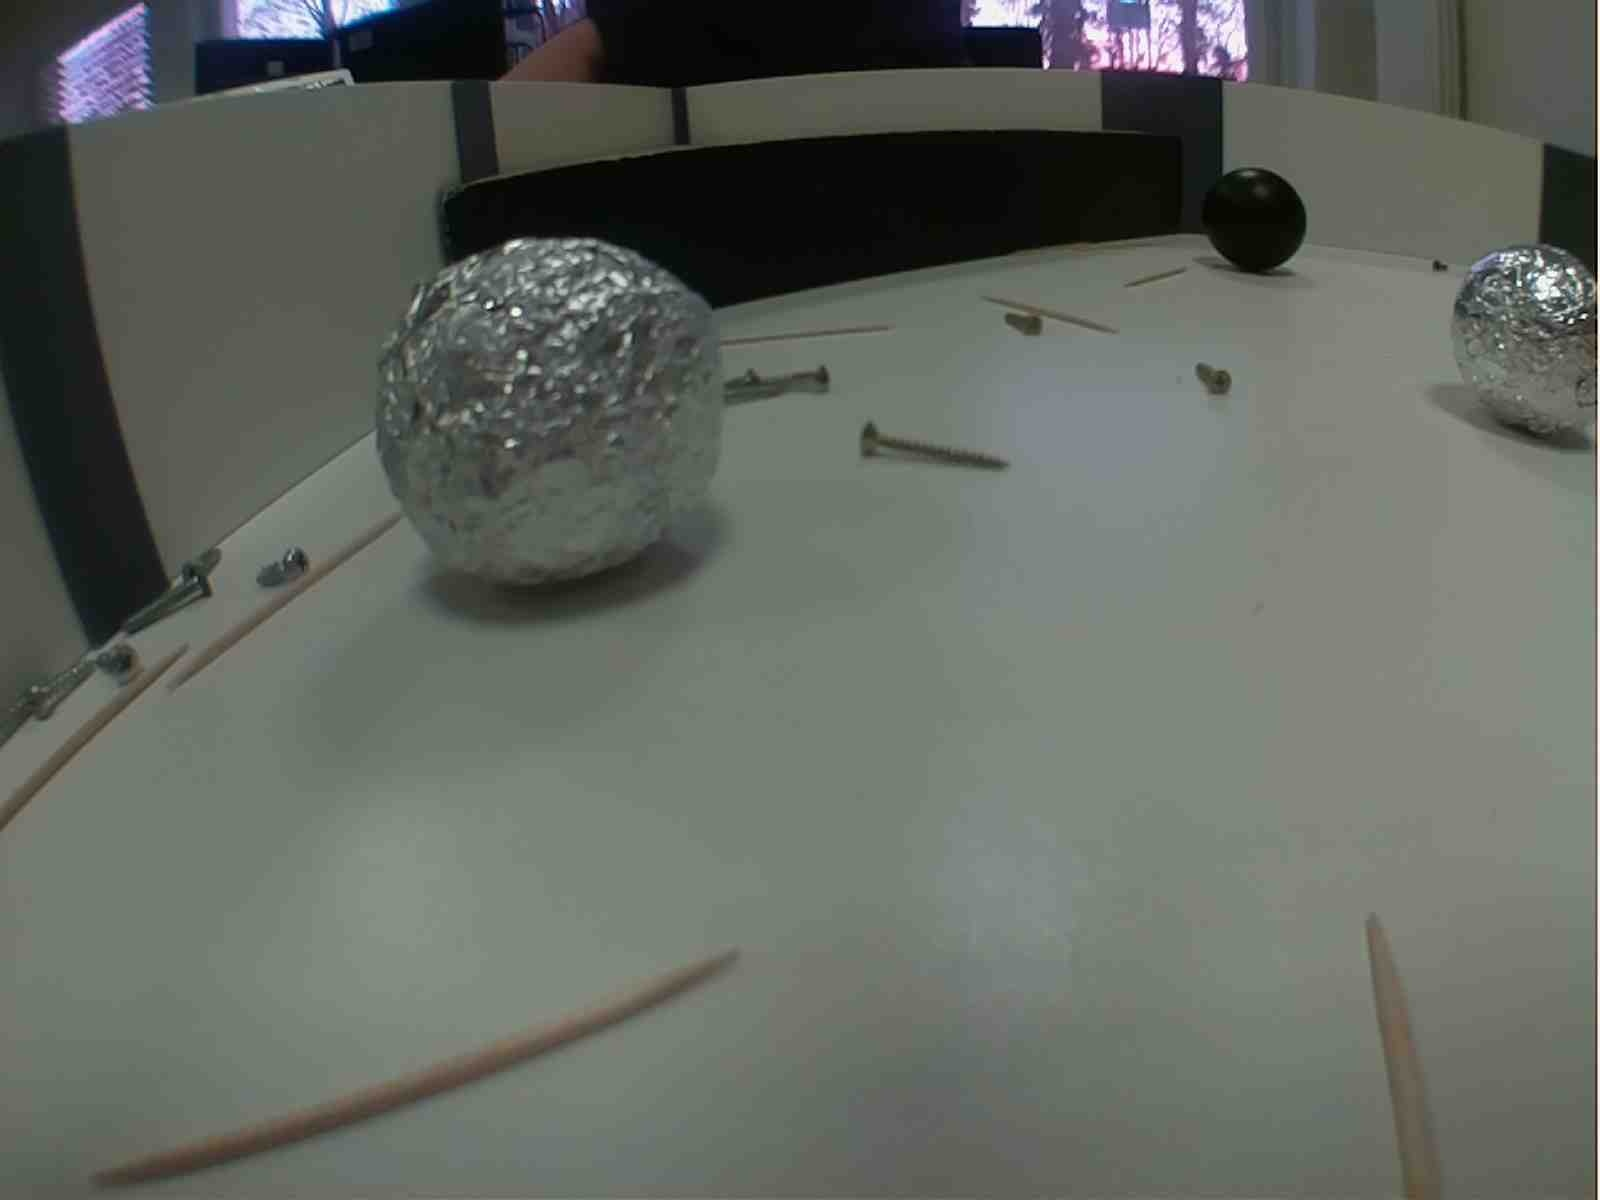bianca: (378, 229, 740, 589), (1445, 245, 1600, 449)
nera: (1199, 164, 1315, 277)
